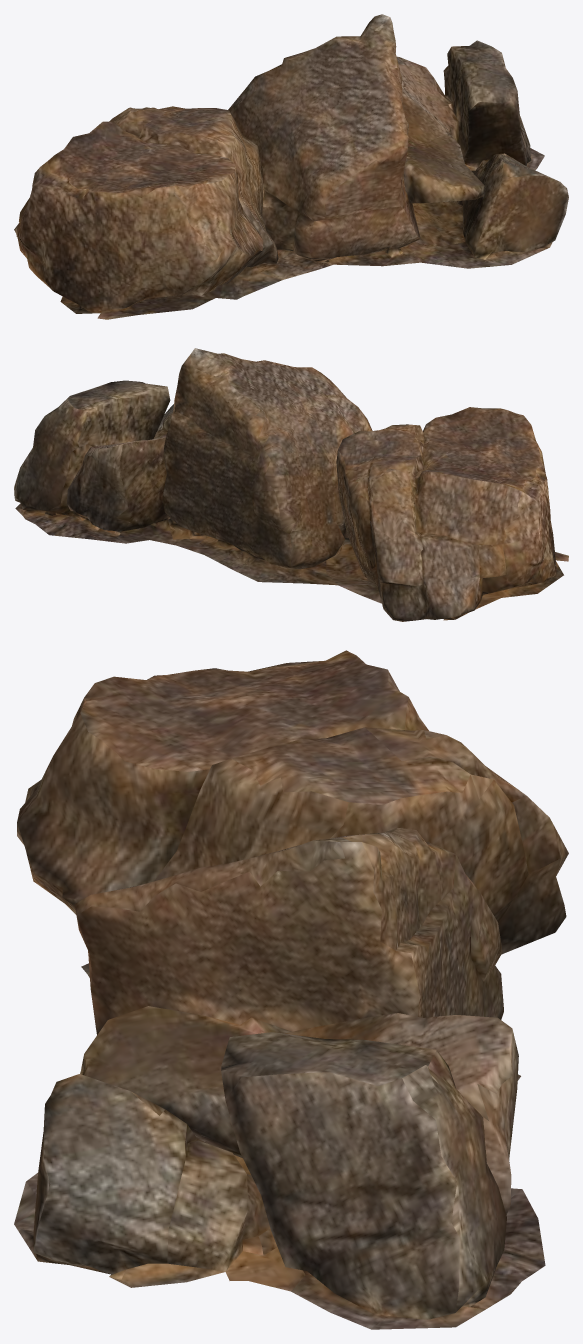
Rendered from namaqualand_boulder_02_lo.gltf.
3 views of the same model, one above another, from view 1: azimuth 30°, elevation 25°; view 2: azimuth 150°, elevation 25°; view 3: azimuth 270°, elevation 25° (orthographic). The views are drawn at different scales.
Visible parts, largest first — view 1: namaqualand_boulder_02; view 2: namaqualand_boulder_02; view 3: namaqualand_boulder_02.
Boxes of the visible parts, <box> form: namaqualand_boulder_02: <box>14,14,568,319</box>; namaqualand_boulder_02: <box>14,348,568,621</box>; namaqualand_boulder_02: <box>14,650,568,1329</box>.
Size of the model in its own units: 2.51 by 0.8619 by 1.23.
1 material, 1 textured.
